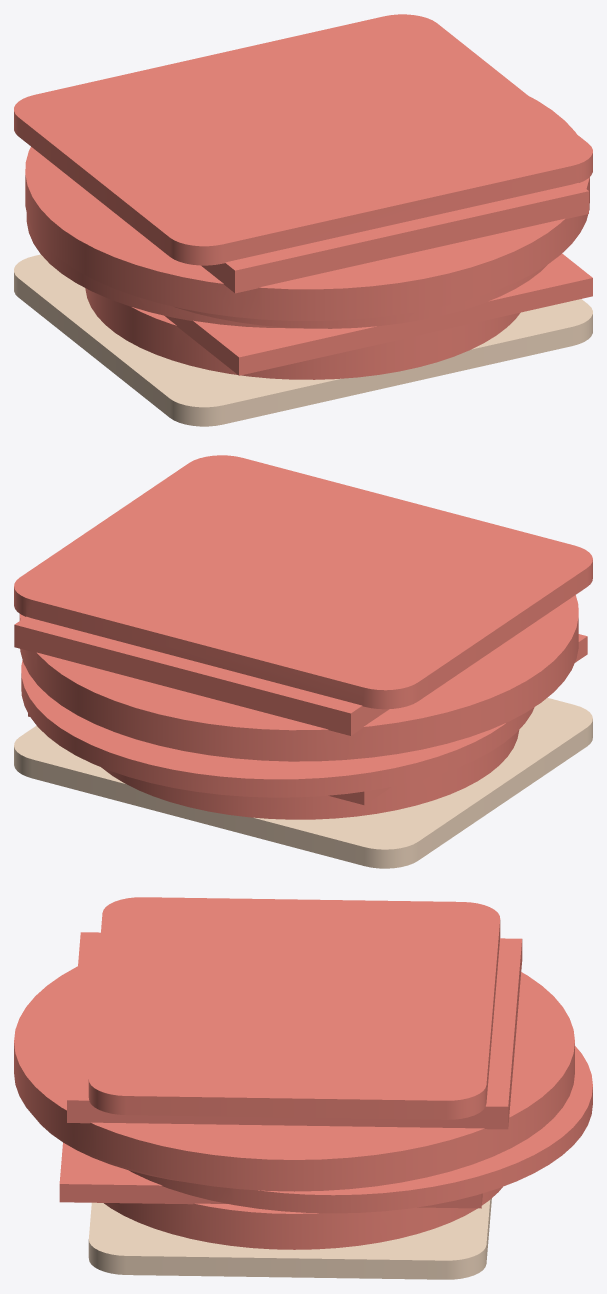
3 views of the same model, one above another, from view 1: azimuth 30°, elevation 25°; view 2: azimuth 150°, elevation 25°; view 3: azimuth 270°, elevation 25° (orthographic).
Visible parts, largest first — view 1: red_layer, bread; view 2: red_layer, bread; view 3: red_layer, bread.
Boxes of the visible parts, x1,y1,x2,y2 form: red_layer: (14,14,592,379); bread: (14,254,592,426); red_layer: (14,455,592,819); bread: (14,698,592,868); red_layer: (14,897,592,1249); bread: (88,1198,491,1279).
Size of the model in its own units: 0.1156 by 0.0407 by 0.1193.
